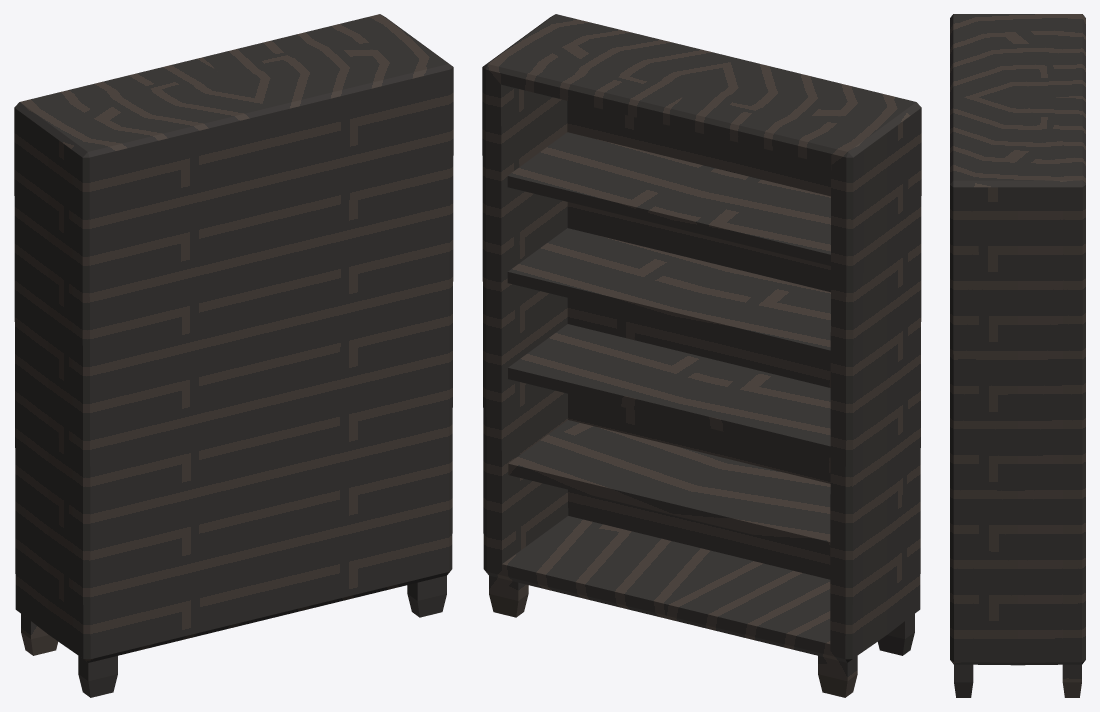
File: bookshelf.obj
The picture shows the model from 3 angles, left to right: view 1: azimuth 30°, elevation 25°; view 2: azimuth 150°, elevation 25°; view 3: azimuth 270°, elevation 25°; orthographic projection. The views are drawn at different scales.
Parts seen in each view (by area): view 1: Desk_Cube.001; view 2: Desk_Cube.001; view 3: Desk_Cube.001.
Part boxes in pixels (x1,y1,x2,y2): Desk_Cube.001: (14, 14, 453, 697); Desk_Cube.001: (482, 14, 921, 697); Desk_Cube.001: (950, 14, 1085, 697).
Size of the model in its own units: 3.76 by 5.31 by 1.26.
